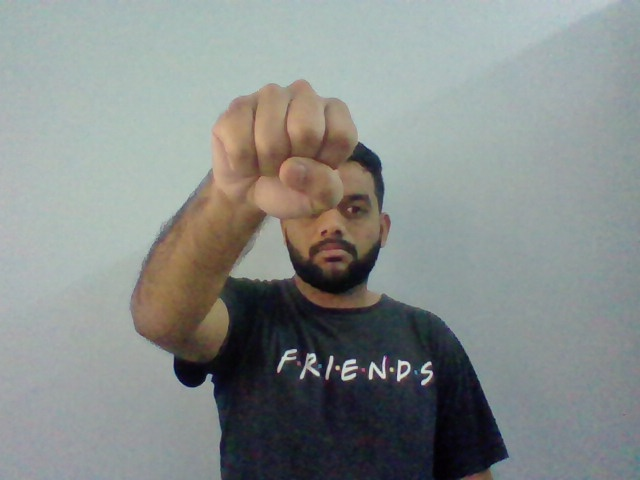Yes: (207, 78, 358, 217)
